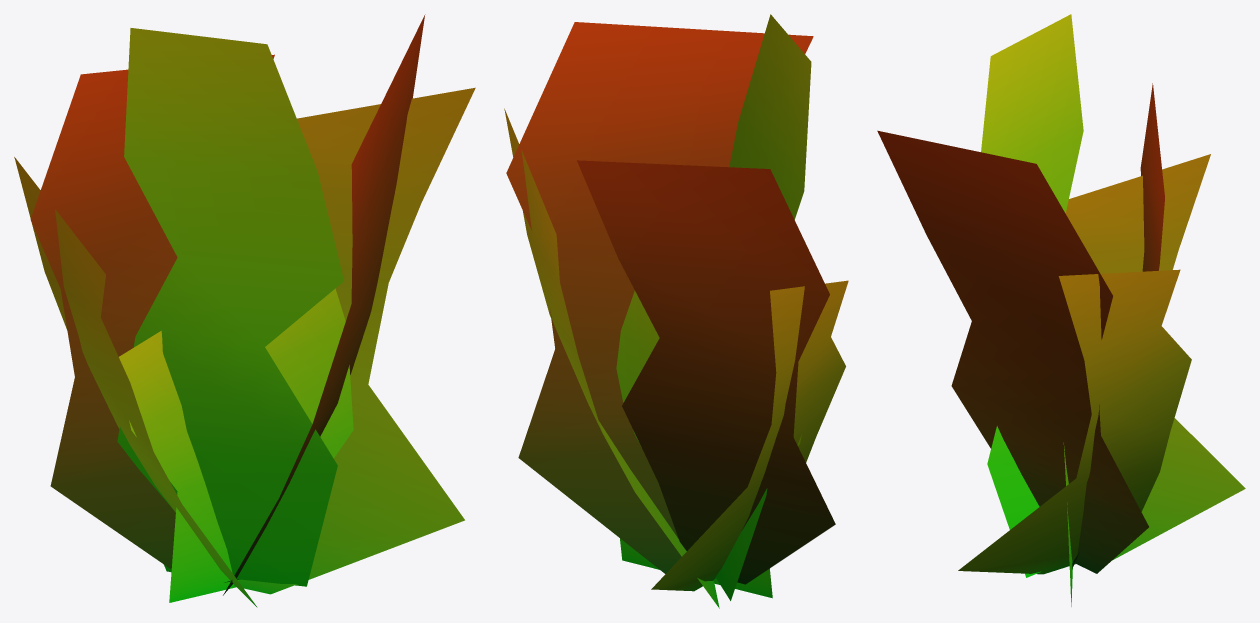
The model's file is Var8Hi50.fbx.
3 renders of one model, left to right at view 1: azimuth 30°, elevation 25°; view 2: azimuth 150°, elevation 25°; view 3: azimuth 270°, elevation 25°, orthographic. The views are drawn at different scales.
Visible parts, largest first — view 1: bend1; view 2: bend1; view 3: bend1.
Boxes of the visible parts, bbox=[...] form: bend1: bbox=[14, 14, 475, 607]; bend1: bbox=[504, 14, 848, 608]; bend1: bbox=[877, 14, 1245, 606].
Bounding box in the file's own units: 1.26 × 1.77 × 1.16.
